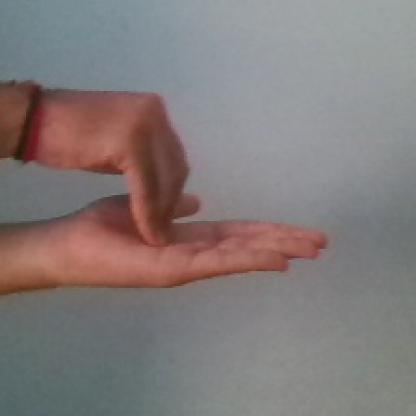Z: (36, 75, 338, 299)
